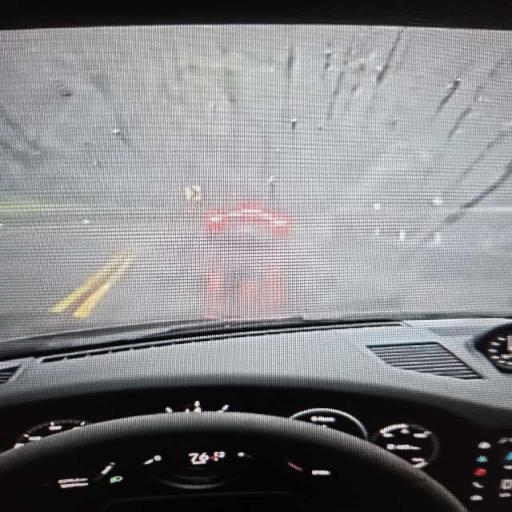car: (204, 202, 290, 235)
lane: (0, 26, 511, 337)
